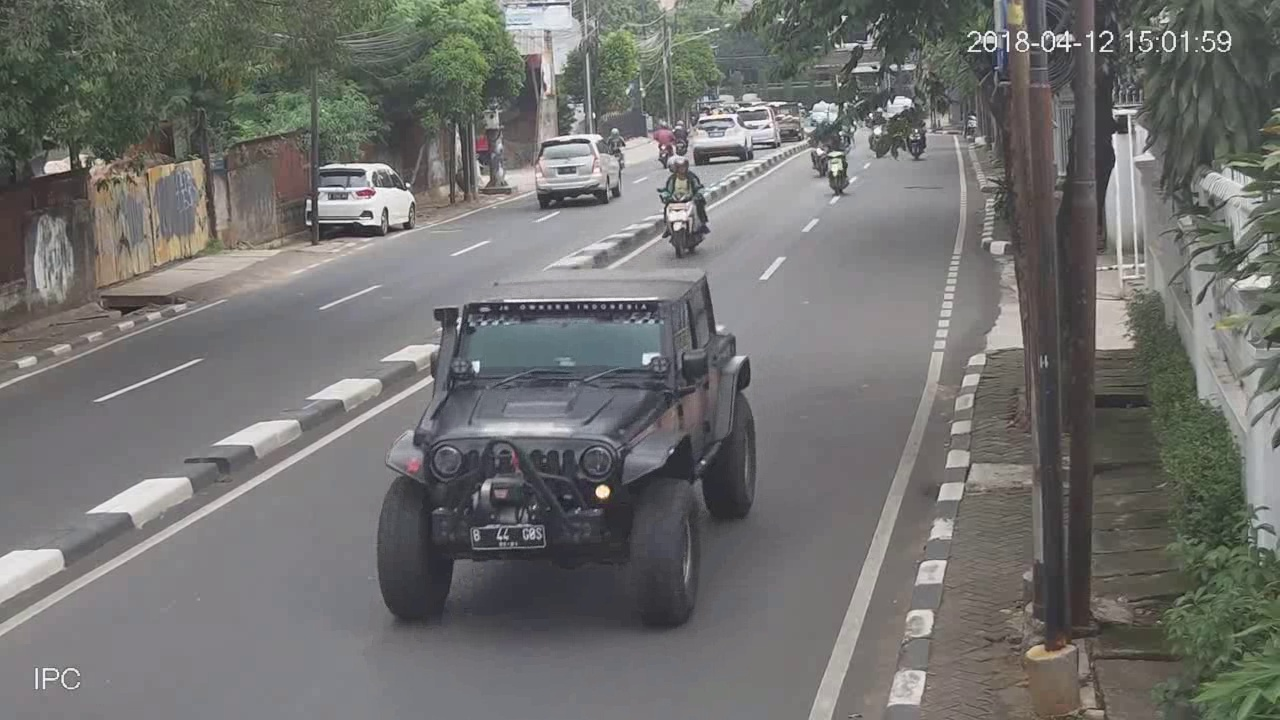car: (374, 268, 762, 624), (305, 160, 417, 239), (531, 133, 622, 205), (693, 114, 754, 165)
motorcycle: (654, 154, 712, 262)
